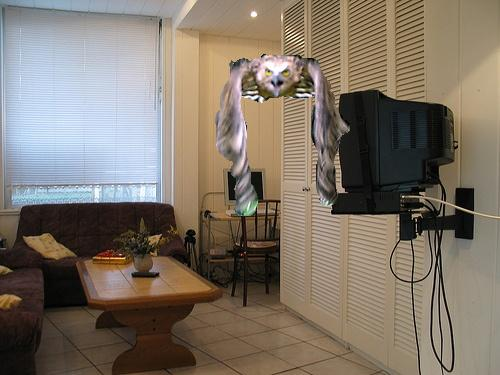tampered: (216, 55, 350, 216)
